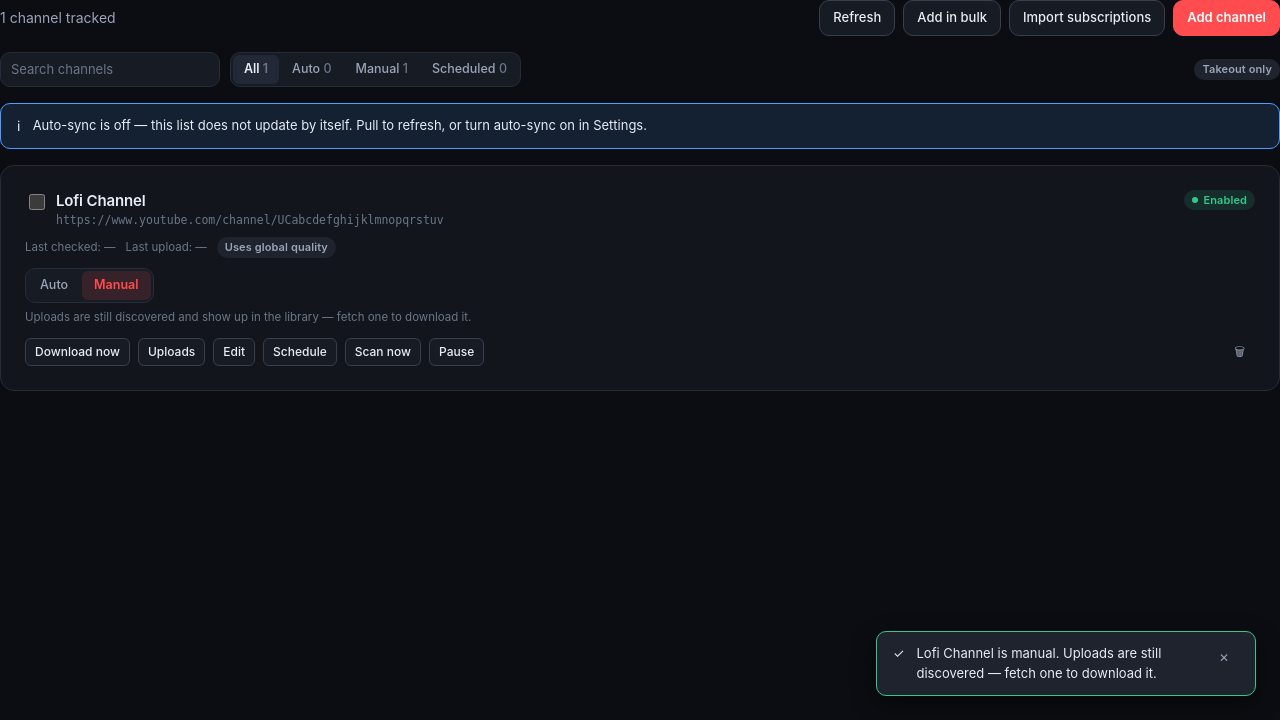
it: channels screen — auto / manual › does not offer a schedule as if it applied to a manual channel
expect the heading "Lofi Channel" is shown: met, box [56,191,146,210]
Step 1. Click the button "Schedule" → x=300, y=352, box [263,338,337,366]
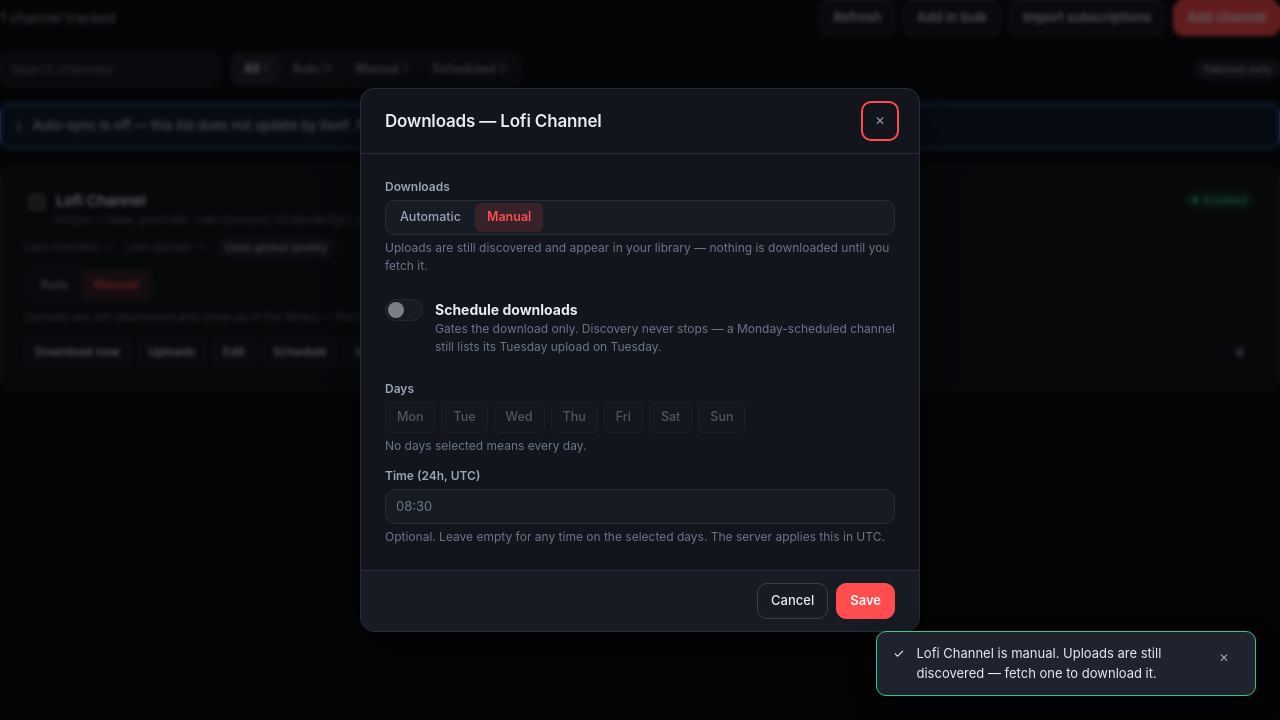
expect the switch named "only download on a schedule" is disabled: met, box [385,299,423,321]
